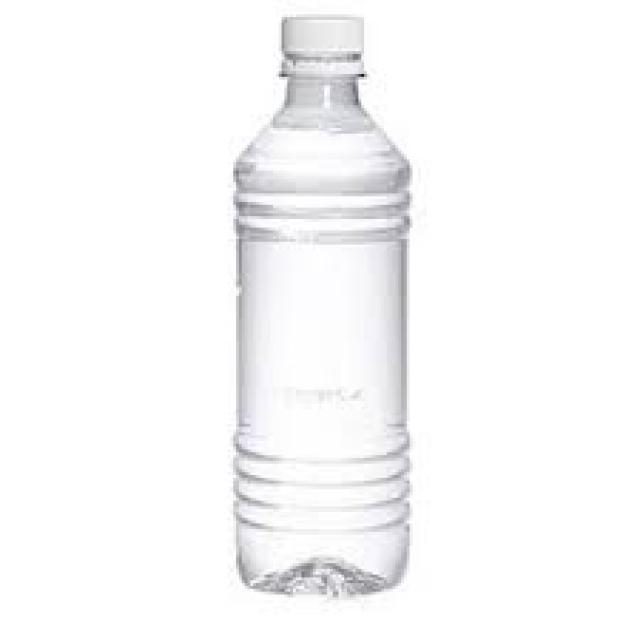Plastic: (233, 18, 414, 597)
